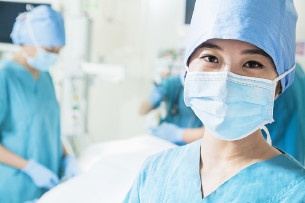Mask: (183, 34, 289, 140)
